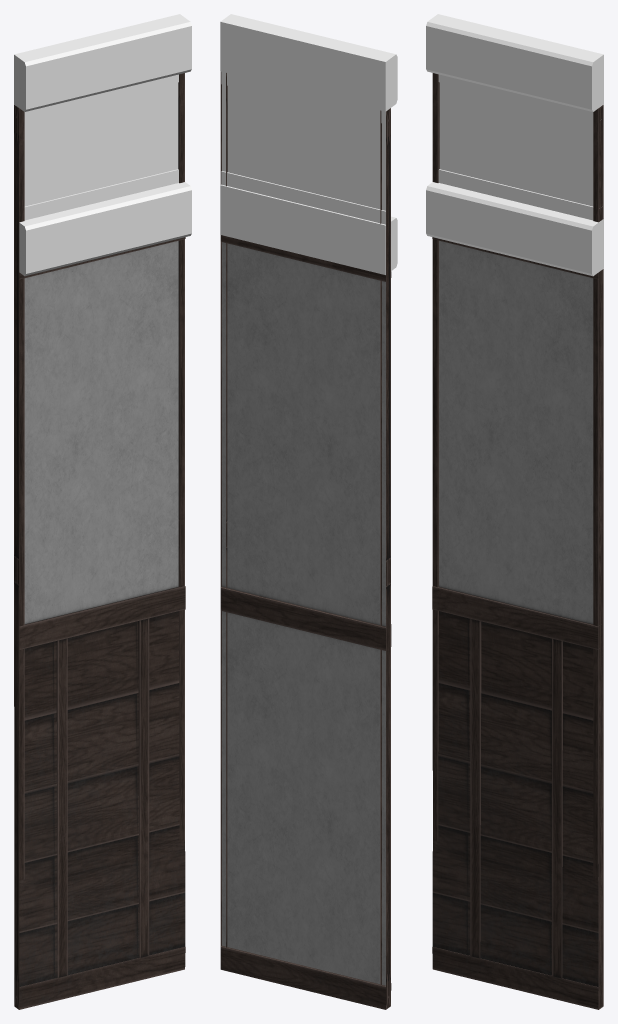
Rendered from Wall_Half02.FBX.
3 renders of one model, left to right at view 1: azimuth 30°, elevation 25°; view 2: azimuth 150°, elevation 25°; view 3: azimuth 330°, elevation 25°, orthographic.
Parts seen in each view (by area): view 1: wall_C002, Wall_Half02, wall_A004; view 2: wall_C002, Wall_Half02, wall_A004; view 3: wall_C002, Wall_Half02, wall_A004.
Boxes of the visible parts, <box> form: wall_C002: <box>14,73,185,1009</box>; Wall_Half02: <box>14,14,191,276</box>; wall_A004: <box>15,74,178,220</box>; wall_C002: <box>220,72,391,1009</box>; Wall_Half02: <box>220,14,397,274</box>; wall_A004: <box>221,71,386,224</box>; wall_C002: <box>432,73,603,1009</box>; Wall_Half02: <box>426,14,603,276</box>; wall_A004: <box>438,74,593,220</box>.
Size of the model in its own units: 0.602 by 3.3 by 0.0753.
